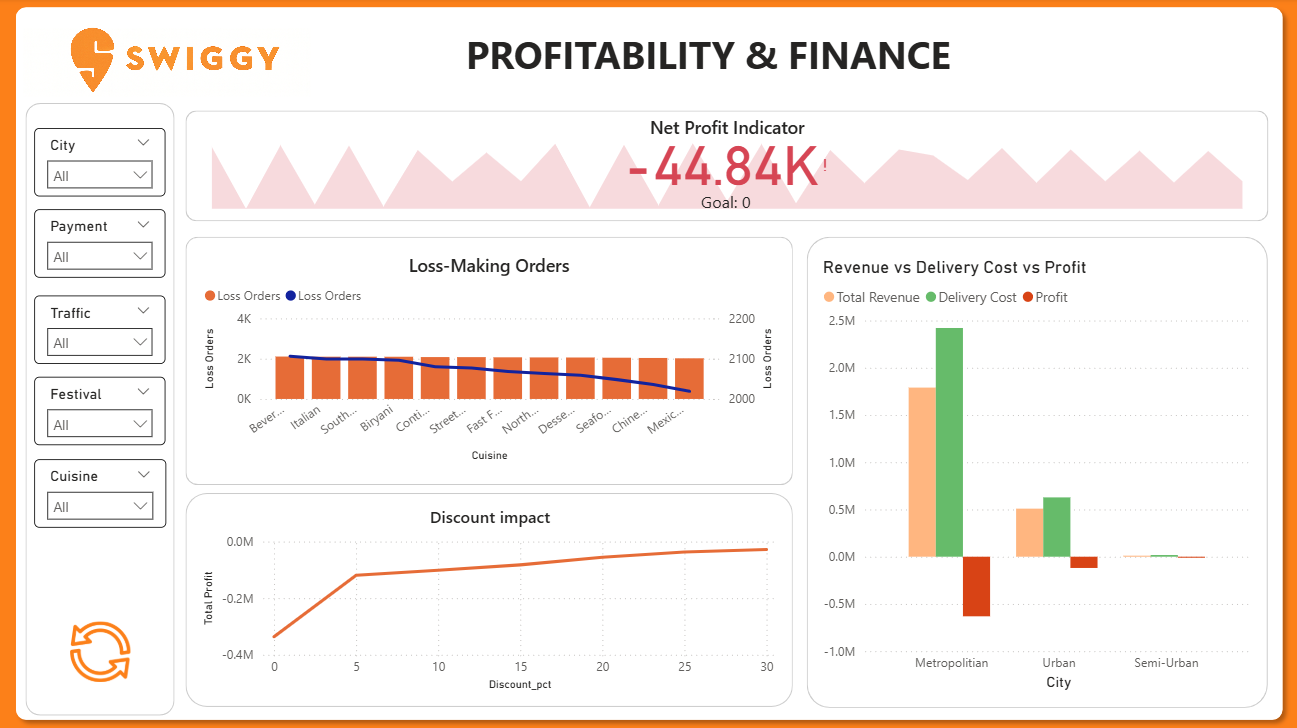

Layout of this report page (visuals, bound fields, positions):
{"tool":"powerbi","page":{"name":"Profitability & Finance","canvas":[1280,720],"ordinal":3},"visuals":[{"type":"shape","box":[27.5,102.5,146.2,601.2],"z":0,"group":"g7"},{"type":"group","id":"g1","title":"shape1","box":[183.8,110,1062.9,108.8],"z":0,"group":"g5"},{"type":"shape","box":[183.8,110,1062.9,108.8],"z":0,"group":"g1"},{"type":"shape","box":[793.8,233.8,452.5,462.5],"z":0,"group":"g4"},{"type":"group","id":"g2","title":"shape3","box":[183.8,413.8,652.5,282.5],"z":0},{"type":"shape","box":[183.8,413.8,652.5,282.5],"z":0,"group":"g2"},{"type":"group","id":"g3","title":"shape2","box":[183.8,486.2,596.2,210],"z":0,"group":"g6"},{"type":"shape","box":[183.8,486.2,596.2,210],"z":0,"group":"g3"},{"type":"shape","box":[8.8,0,1261.2,717.5],"z":1000},{"type":"kpi","title":"Net Profit Indicator","fields":{"Indicator":["swiggy_cleaned_data.total_profit"],"Goal":["swiggy_cleaned_data.profit_target"],"TrendLine":["swiggy_cleaned_data.Order_Date.Variation.Date Hierarchy.Day"]},"box":[204.4,115.5,1022.1,96.7],"z":1000,"group":"g5"},{"type":"slicer","fields":{"Values":["swiggy_cleaned_data.City"]},"box":[36.3,127.5,129,67.5],"z":1000,"group":"g7"},{"type":"clusteredColumnChart","title":"Revenue vs Delivery Cost vs Profit","fields":{"Category":["swiggy_cleaned_data.City"],"Y":["swiggy_cleaned_data.total_revenue","Sum(swiggy_cleaned_data.Delivery_Cost)","swiggy_cleaned_data.total_profit"]},"box":[805.3,253.7,431.7,430.9],"z":1000,"group":"g4"},{"type":"lineChart","title":"Discount impact","fields":{"Category":["swiggy_cleaned_data.Discount_pct"],"Y":["swiggy_cleaned_data.total_profit"]},"box":[195.9,498.6,573.3,186.5],"z":1000,"group":"g6"},{"type":"slicer","fields":{"Values":["swiggy_cleaned_data.Payment_Method"]},"box":[36.3,206.3,129,67.5],"z":2000,"group":"g7"},{"type":"shape","box":[183.8,233.8,596.2,243.8],"z":2000,"group":"g8"},{"type":"image","box":[19.6,24.5,292,77.3],"z":3000},{"type":"slicer","fields":{"Values":["swiggy_cleaned_data.Road_traffic_density"]},"box":[36.3,291.3,129,67.5],"z":3000,"group":"g7"},{"type":"textbox","box":[311.2,25,771.2,63.8],"z":4000},{"type":"slicer","fields":{"Values":["swiggy_cleaned_data.Festival"]},"box":[36.3,371.3,129,67.5],"z":4000,"group":"g7"},{"type":"image","box":[36.3,606.3,130,68.8],"z":5000,"group":"g7"},{"type":"group","id":"g4","title":"rev-del-pro","box":[793.8,233.8,452.5,462.5],"z":6000},{"type":"slicer","fields":{"Values":["swiggy_cleaned_data.Cuisine"]},"box":[36.7,452,129.3,67.3],"z":6000,"group":"g7"},{"type":"group","id":"g5","title":"Net profit","box":[183.8,110,1066.2,108.8],"z":7000},{"type":"group","id":"g6","title":"Discount_impact","box":[183.8,486.2,596.2,210],"z":8000},{"type":"group","id":"g7","title":"Slicers","box":[27.5,102.5,146.2,601.2],"z":9000},{"type":"lineStackedColumnComboChart","title":"Loss-Making Orders","fields":{"Category":["swiggy_cleaned_data.Cuisine"],"Y":["swiggy_cleaned_data.Loss Orders"],"Y2":["swiggy_cleaned_data.Loss Orders"]},"box":[197.5,249.5,568.8,210.3],"z":10000,"group":"g8"},{"type":"group","id":"g8","title":"loss making orders","box":[183.8,233.8,596.2,243.8],"z":10001}]}

Visuals, with their boxes in screenshot pixels (x1, y1, x2, y2), scaled from the page's 1280x720 canvas onto the 1297x728 screenshot:
shape: bbox=(28, 104, 176, 712)
"shape1" group: bbox=(186, 111, 1263, 221)
shape: bbox=(186, 111, 1263, 221)
shape: bbox=(804, 236, 1263, 704)
"shape3" group: bbox=(186, 418, 847, 704)
shape: bbox=(186, 418, 847, 704)
"shape2" group: bbox=(186, 492, 790, 704)
shape: bbox=(186, 492, 790, 704)
shape: bbox=(9, 0, 1287, 725)
"Net Profit Indicator" kpi: bbox=(207, 117, 1243, 215)
slicer - swiggy_cleaned_data.City: bbox=(37, 129, 167, 197)
"Revenue vs Delivery Cost vs Profit" clusteredColumnChart: bbox=(816, 257, 1253, 692)
"Discount impact" lineChart: bbox=(199, 504, 779, 693)
slicer - swiggy_cleaned_data.Payment_Method: bbox=(37, 209, 167, 277)
shape: bbox=(186, 236, 790, 483)
image: bbox=(20, 25, 316, 103)
slicer - swiggy_cleaned_data.Road_traffic_density: bbox=(37, 295, 167, 363)
textbox: bbox=(315, 25, 1097, 90)
slicer - swiggy_cleaned_data.Festival: bbox=(37, 375, 167, 444)
image: bbox=(37, 613, 169, 683)
"rev-del-pro" group: bbox=(804, 236, 1263, 704)
slicer - swiggy_cleaned_data.Cuisine: bbox=(37, 457, 168, 525)
"Net profit" group: bbox=(186, 111, 1267, 221)
"Discount_impact" group: bbox=(186, 492, 790, 704)
"Slicers" group: bbox=(28, 104, 176, 712)
"Loss-Making Orders" lineStackedColumnComboChart: bbox=(200, 252, 776, 465)
"loss making orders" group: bbox=(186, 236, 790, 483)
